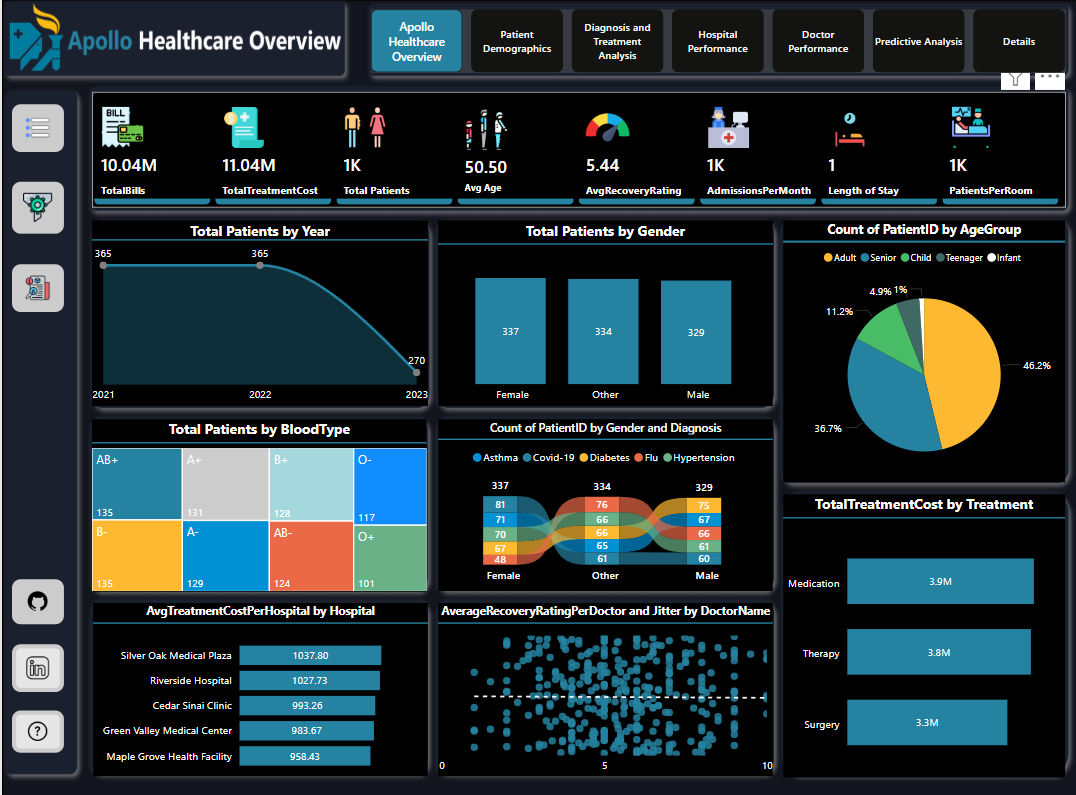

This screenshot's page, from the dashboard's own definition file:
{"tool":"powerbi","page":{"name":"Apollo Healthcare Overview","canvas":[1245,934],"ordinal":0},"visuals":[{"type":"cardVisual","title":"KPI","fields":{"Data":["Sum(Healthcare 1.TotalBill)","All Measures.TotalTreatmentCost","All Measures.Total Patients","All Measures.Avg Age","All Measures.AvgRecoveryRating","All Measures.AdmissionsPerMonth","All Measures.Length of Stay","All Measures.PatientsPerRoom"]},"box":[103.3,108,1125.3,134.6],"z":0},{"type":"image","box":[11,122.1,60,55],"z":0,"group":"g1"},{"type":"image","box":[11,211.9,59.9,59.9],"z":1000,"group":"g1"},{"type":"lineChart","fields":{"Y":["All Measures.Total Patients"],"Category":["Date.Date.Variation.Date Hierarchy.Year","Date.Date.Variation.Date Hierarchy.Quarter","Date.Date.Variation.Date Hierarchy.Month","Date.Date.Variation.Date Hierarchy.Day"]},"box":[103.3,256.7,388,214],"z":1000},{"type":"columnChart","fields":{"Category":["Healthcare 1.Gender"],"Y":["All Measures.Total Patients"]},"box":[503.9,256.7,386,214],"z":2000},{"type":"image","box":[11,306.7,59.9,55],"z":2000,"group":"g1"},{"type":"treemap","fields":{"Group":["Healthcare 1.BloodType"],"Values":["All Measures.Total Patients"]},"box":[103.3,486.7,386.6,199],"z":3000},{"type":"image","box":[11,745.4,59.9,55],"z":3000,"group":"g1"},{"type":"pieChart","fields":{"Category":["Healthcare 1.AgeGroup"],"Y":["CountNonNull(Healthcare 1.PatientID)"]},"box":[903,256.7,325.5,302],"z":4000},{"type":"image","box":[11,670.9,59.9,51.8],"z":4000,"group":"g1"},{"type":"ribbonChart","fields":{"Category":["Healthcare 1.Gender"],"Y":["CountNonNull(Healthcare 1.PatientID)"],"Series":["Healthcare 1.Diagnosis"]},"box":[503.9,486.7,386.6,198],"z":5000},{"type":"image","box":[11,823.1,59.9,48.6],"z":5000,"group":"g1"},{"type":"barChart","fields":{"Category":["Healthcare 2.Hospital"],"Y":["All Measures.AvgTreatmentCostPerHospital"]},"box":[104.9,699.6,386.6,200.3],"z":6000},{"type":"scatterChart","fields":{"Category":["Healthcare 2.DoctorName"],"X":["All Measures.AvgRecoveryRatingByDoctor"],"Y":["All Measures.Jitter"]},"box":[503.9,699.6,386.6,200.3],"z":7000},{"type":"barChart","fields":{"Category":["Healthcare 1.Treatment"],"Y":["All Measures.TotalTreatmentCost"]},"box":[903,572.8,325.5,327.1],"z":8000},{"type":"group","id":"g1","title":"Menu Bar","box":[11,122.1,61,749.6],"z":9000},{"type":"pageNavigator","box":[425.7,12.5,802.9,73.6],"z":11000}]}

Visuals, with their boxes on the page's 1245x934 design canvas (x1, y1, x2, y2). These are canvas units, not pixel positions in the 1076x795 screenshot, which may show the page scaled, cropped or inside an application window:
"KPI" cardVisual: [left=103, top=108, right=1229, bottom=243]
image: [left=11, top=122, right=71, bottom=177]
image: [left=11, top=212, right=71, bottom=272]
lineChart - All Measures.Total Patients x Date.Date.Variation.Date Hierarchy.Year: [left=103, top=257, right=491, bottom=471]
columnChart - Healthcare 1.Gender x All Measures.Total Patients: [left=504, top=257, right=890, bottom=471]
image: [left=11, top=307, right=71, bottom=362]
treemap - Healthcare 1.BloodType x All Measures.Total Patients: [left=103, top=487, right=490, bottom=686]
image: [left=11, top=745, right=71, bottom=800]
pieChart - Healthcare 1.AgeGroup x CountNonNull(Healthcare 1.PatientID): [left=903, top=257, right=1228, bottom=559]
image: [left=11, top=671, right=71, bottom=723]
ribbonChart - Healthcare 1.Gender x CountNonNull(Healthcare 1.PatientID): [left=504, top=487, right=890, bottom=685]
image: [left=11, top=823, right=71, bottom=872]
barChart - Healthcare 2.Hospital x All Measures.AvgTreatmentCostPerHospital: [left=105, top=700, right=492, bottom=900]
scatterChart - Healthcare 2.DoctorName x All Measures.AvgRecoveryRatingByDoctor: [left=504, top=700, right=890, bottom=900]
barChart - Healthcare 1.Treatment x All Measures.TotalTreatmentCost: [left=903, top=573, right=1228, bottom=900]
"Menu Bar" group: [left=11, top=122, right=72, bottom=872]
pageNavigator: [left=426, top=12, right=1229, bottom=86]
